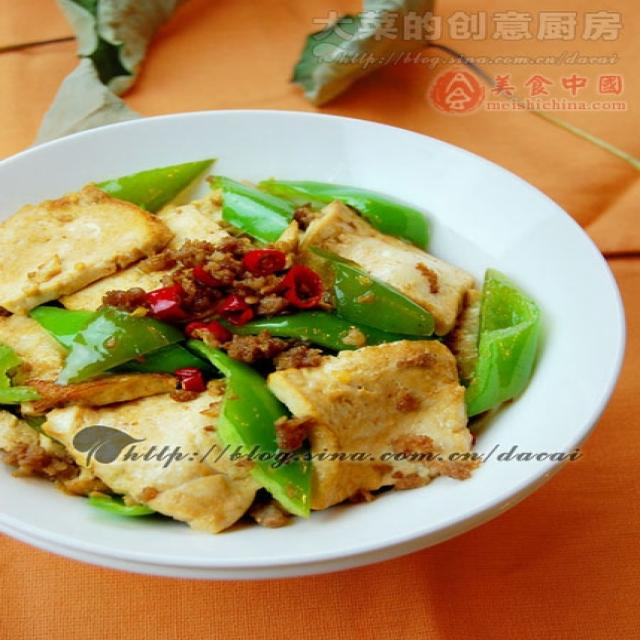豆腐料理: (7, 116, 579, 560)
